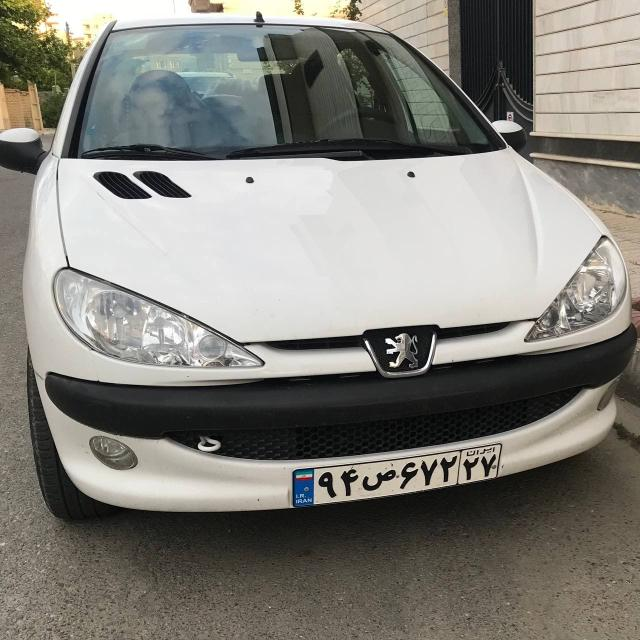Plates: (287, 439, 505, 507)
